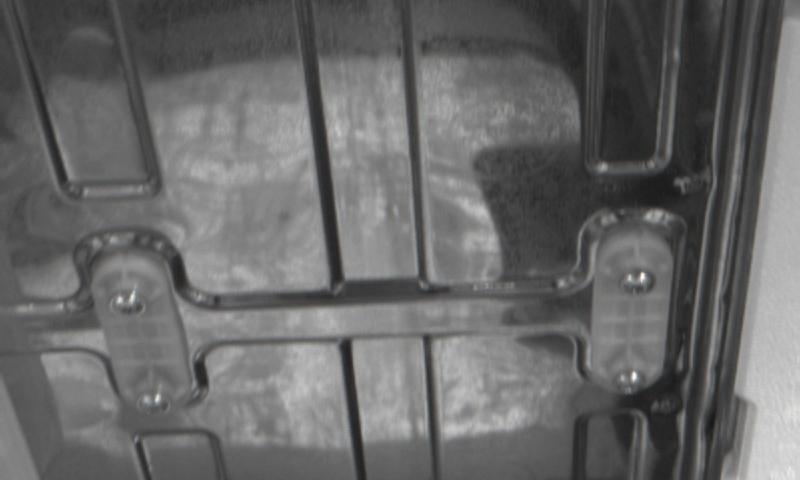vida-ok: (616, 262, 659, 308), (109, 280, 149, 325), (132, 383, 175, 423), (610, 363, 650, 402)
